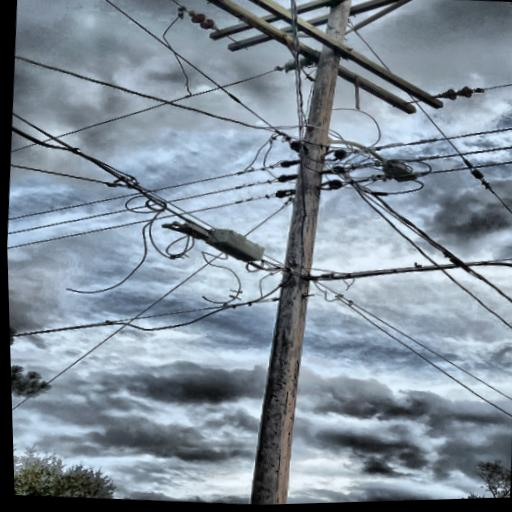pole: (201, 0, 381, 506)
